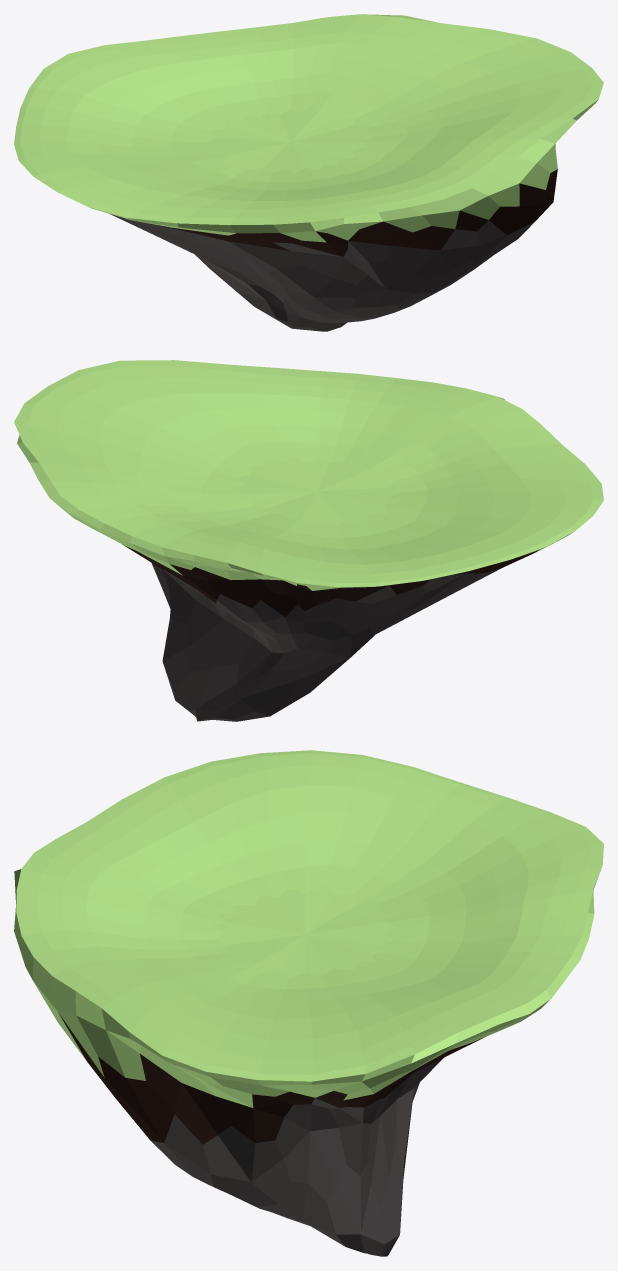
The model's file is land.fbx.
3 views of the same model, one above another, from view 1: azimuth 30°, elevation 25°; view 2: azimuth 150°, elevation 25°; view 3: azimuth 270°, elevation 25° (orthographic). The views are drawn at different scales.
Visible parts, largest first — view 1: Icosphere.001; view 2: Icosphere.001; view 3: Icosphere.001.
Part boxes in pixels (box(x1,y1,x2,y2)): Icosphere.001: box(14, 14, 603, 331); Icosphere.001: box(14, 360, 603, 721); Icosphere.001: box(14, 750, 603, 1256).
Bounding box in the file's own units: 3258 × 1439 × 2511.
